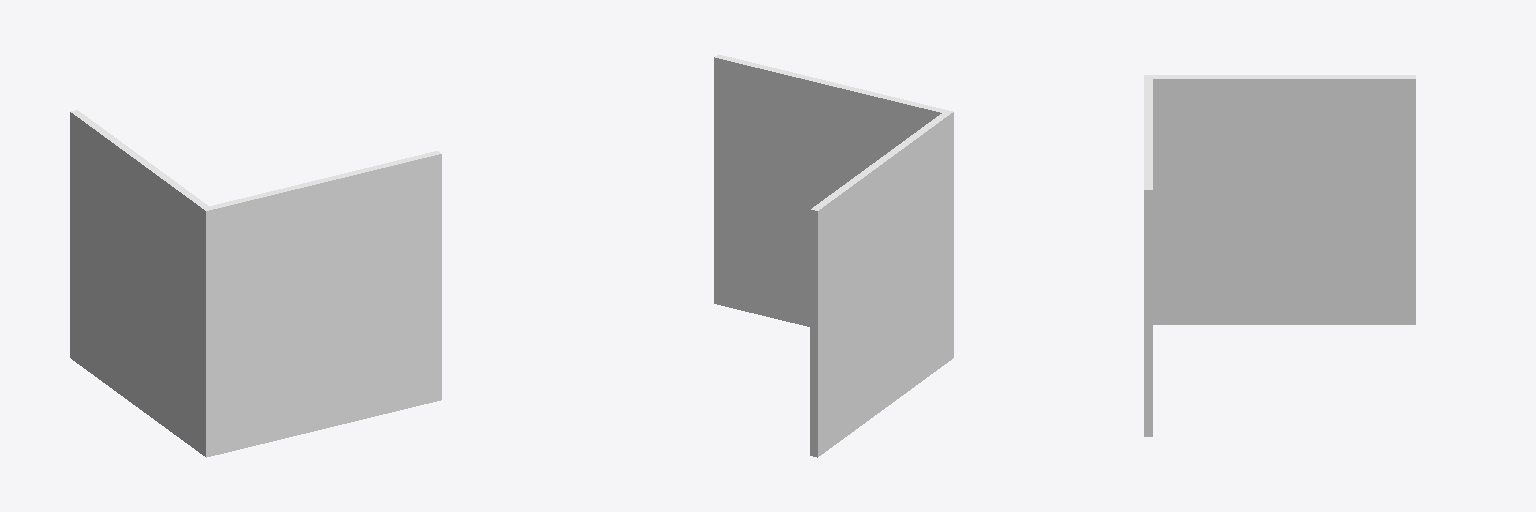
3 views of the same model, side by side, from view 1: azimuth 30°, elevation 25°; view 2: azimuth 150°, elevation 25°; view 3: azimuth 270°, elevation 25° (orthographic).
Visible parts, largest first — view 1: test-35; view 2: test-35; view 3: test-35.
Part boxes in pixels (bbox=[...]): test-35: bbox=[70, 110, 441, 457]; test-35: bbox=[714, 54, 953, 457]; test-35: bbox=[1144, 75, 1415, 436].
Bounding box in the file's own units: 32 × 32 × 32.